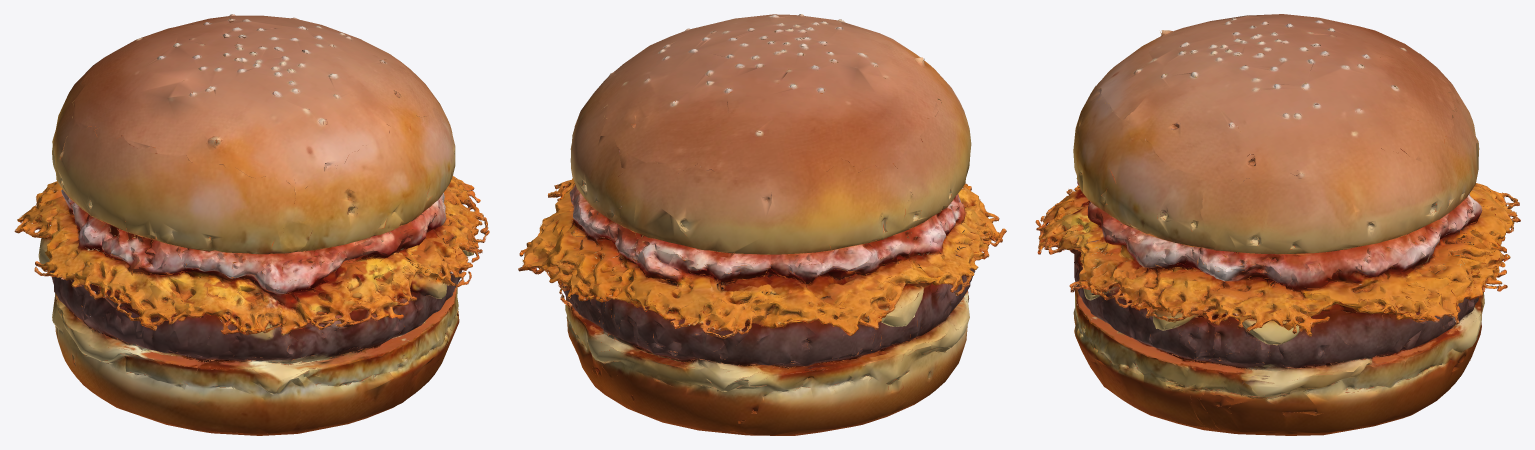
File: SantoBurger_AR_meshopt_v01.glb
3 views of the same model, side by side, from view 1: azimuth 30°, elevation 25°; view 2: azimuth 150°, elevation 25°; view 3: azimuth 270°, elevation 25° (orthographic).
Parts seen in each view (by area): view 1: model; view 2: model; view 3: model.
Part boxes in pixels (<box>): model: <box>14,14,489,435</box>; model: <box>518,14,1006,435</box>; model: <box>1035,14,1520,435</box>.
Size of the model in its own units: 1.9 by 1.4 by 1.93.
Materials: 1 (1 with a texture image).
